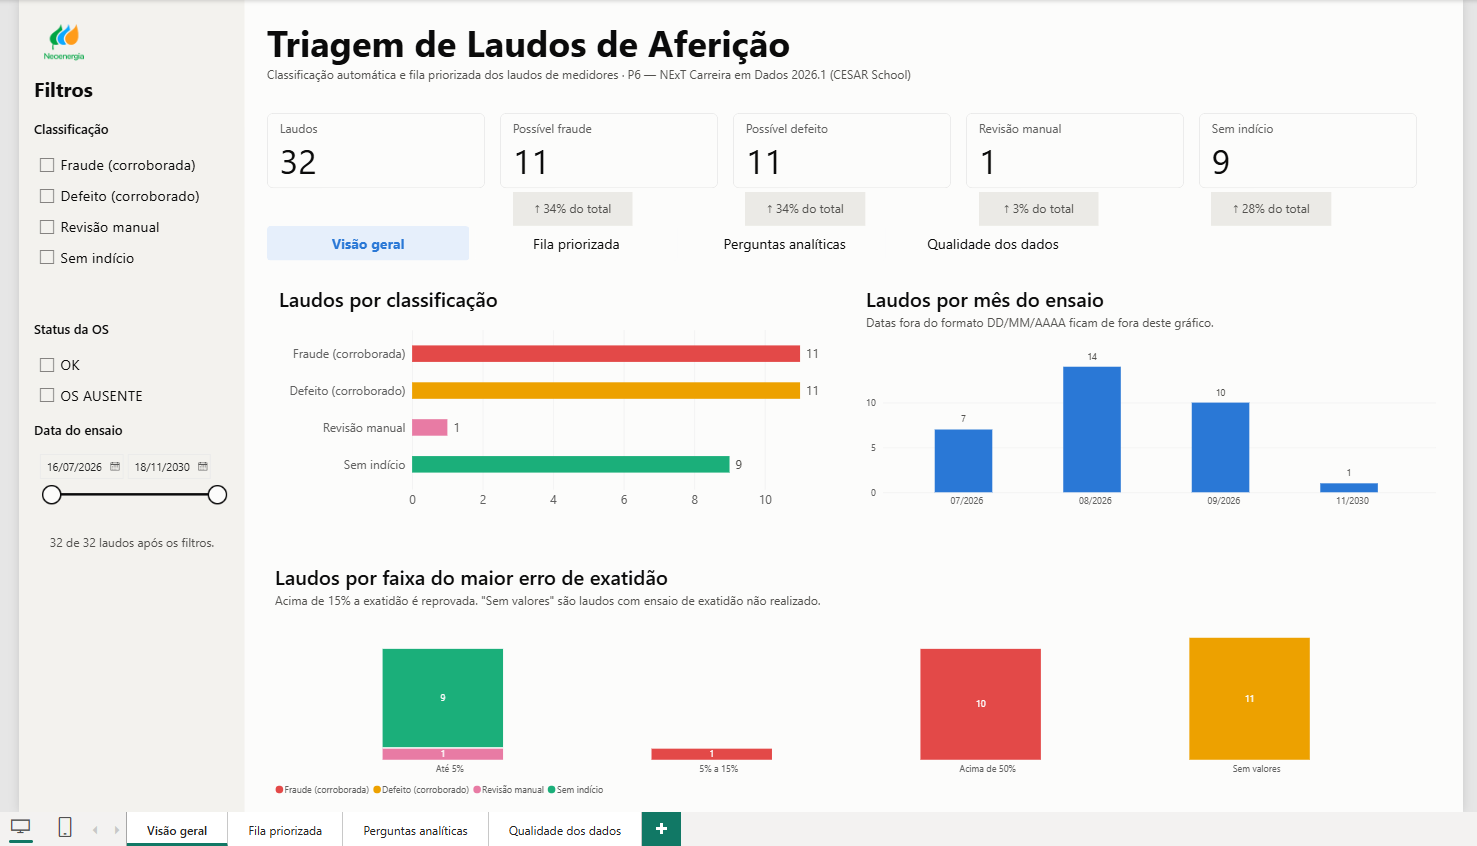

Layout of this report page (visuals, bound fields, positions):
{"tool":"powerbi","page":{"name":"Visão geral","canvas":[1920,1080],"ordinal":0},"visuals":[{"type":"textbox","box":[0,0,300,1080],"z":0},{"type":"image","box":[24,20,72,72],"z":1000},{"type":"textbox","box":[20,100,260,50],"z":2000},{"type":"slicer","title":"Classificação","fields":{"Values":["public laudos.classificacao_curta"]},"box":[20,160,260,250],"z":3000},{"type":"slicer","title":"Status da OS","fields":{"Values":["public laudos.status_os"]},"box":[20,425,260,120],"z":4000},{"type":"slicer","title":"Data do ensaio","fields":{"Values":["public laudos.data_ensaio_dt"]},"box":[20,560,260,120],"z":5000},{"type":"card","fields":{"Values":["public laudos.Laudos filtrados"]},"box":[20,699.6,260.7,49.2],"z":6000},{"type":"textbox","box":[330,24,1570,120],"z":7000},{"type":"cardVisual","fields":{"Data":["public laudos.Total de laudos"]},"box":[330,150,290,100],"z":8000},{"type":"cardVisual","fields":{"Data":["public laudos.Laudos possível fraude"]},"box":[640,150,290,100],"z":9000},{"type":"card","fields":{"Values":["public laudos.Pill fraude"]},"box":[656.5,255.3,159,45.2],"z":10000},{"type":"cardVisual","fields":{"Data":["public laudos.Laudos possível defeito"]},"box":[950,150,290,100],"z":11000},{"type":"card","fields":{"Values":["public laudos.Pill defeito"]},"box":[965.8,255.3,160.5,45.2],"z":12000},{"type":"cardVisual","fields":{"Data":["public laudos.Laudos revisão manual"]},"box":[1260,150,290,100],"z":13000},{"type":"card","fields":{"Values":["public laudos.Pill revisão"]},"box":[1276.6,255.3,159,45.2],"z":14000},{"type":"cardVisual","fields":{"Data":["public laudos.Laudos sem indício"]},"box":[1570,150,290,100],"z":15000},{"type":"card","fields":{"Values":["public laudos.Pill sem indício"]},"box":[1585.9,255.3,160.5,45.2],"z":16000},{"type":"pageNavigator","box":[330,300,1100,46],"z":17000},{"type":"barChart","title":"Laudos por classificação","fields":{"Category":["public laudos.classificacao_curta"],"Y":["public laudos.Laudos nº"]},"box":[330,366,760,330],"z":18000},{"type":"columnChart","title":"Laudos por mês do ensaio","fields":{"Category":["public laudos.mes_ensaio"],"Y":["public laudos.Laudos nº"]},"box":[1110,366,790,330],"z":19000},{"type":"columnChart","title":"Laudos por faixa do maior erro de exatidão","fields":{"Category":["public laudos.faixa_erro"],"Series":["public laudos.classificacao_curta"],"Y":["public laudos.Laudos nº"]},"box":[324.5,735.5,1570,344],"z":20000}]}

Visuals, with their boxes on the page's 1920x1080 design canvas (x1, y1, x2, y2). These are canvas units, not pixel positions in the 1477x846 screenshot, which may show the page scaled, cropped or inside an application window:
textbox: [0, 0, 300, 1080]
image: [24, 20, 96, 92]
textbox: [20, 100, 280, 150]
"Classificação" slicer: [20, 160, 280, 410]
"Status da OS" slicer: [20, 425, 280, 545]
"Data do ensaio" slicer: [20, 560, 280, 680]
card - public laudos.Laudos filtrados: [20, 700, 281, 749]
textbox: [330, 24, 1900, 144]
cardVisual - public laudos.Total de laudos: [330, 150, 620, 250]
cardVisual - public laudos.Laudos possível fraude: [640, 150, 930, 250]
card - public laudos.Pill fraude: [656, 255, 816, 300]
cardVisual - public laudos.Laudos possível defeito: [950, 150, 1240, 250]
card - public laudos.Pill defeito: [966, 255, 1126, 300]
cardVisual - public laudos.Laudos revisão manual: [1260, 150, 1550, 250]
card - public laudos.Pill revisão: [1277, 255, 1436, 300]
cardVisual - public laudos.Laudos sem indício: [1570, 150, 1860, 250]
card - public laudos.Pill sem indício: [1586, 255, 1746, 300]
pageNavigator: [330, 300, 1430, 346]
"Laudos por classificação" barChart: [330, 366, 1090, 696]
"Laudos por mês do ensaio" columnChart: [1110, 366, 1900, 696]
"Laudos por faixa do maior erro de exatidão" columnChart: [324, 736, 1894, 1080]
